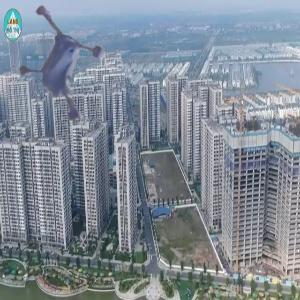drone: (7, 13, 139, 145)
